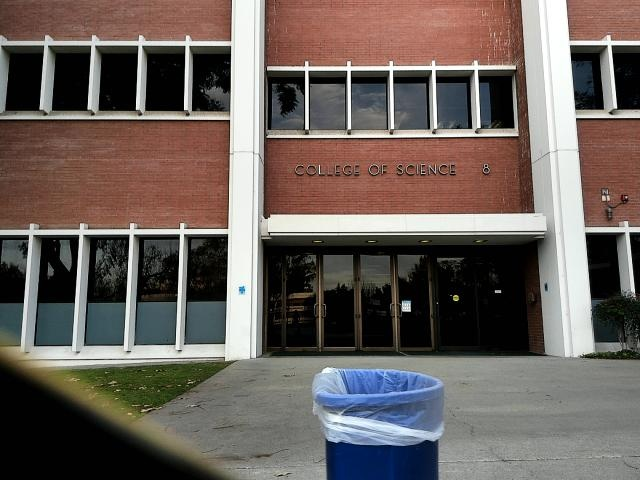trashcan_open: (315, 365, 446, 480)
